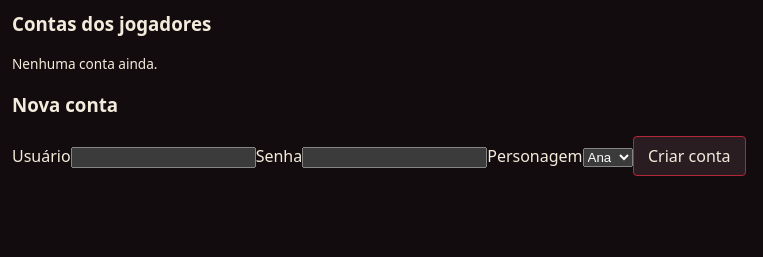
Test: AccountsPanel › mapeia o erro username_taken
Expected: the text "Nenhuma conta ainda." is shown, [12,54,158,73]
Type "beto" into the field labelled "Usuário" at (163, 157), box [71,147,256,168]
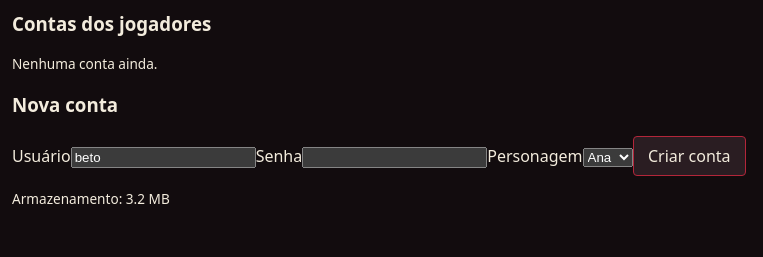
Type "segredo1" into the password field labelled "Senha" at (395, 157), box [302,147,487,168]
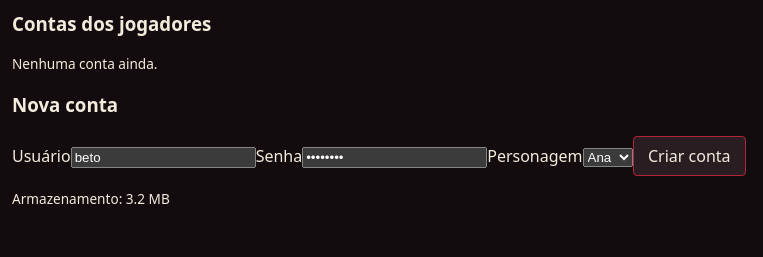
Click the button "Criar conta" at (689, 156), box [633,136,746,176]
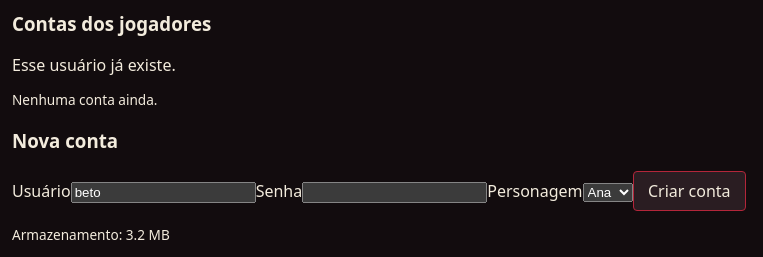
Expected: the message reads "Esse usuário já existe.", [12,54,176,76]
